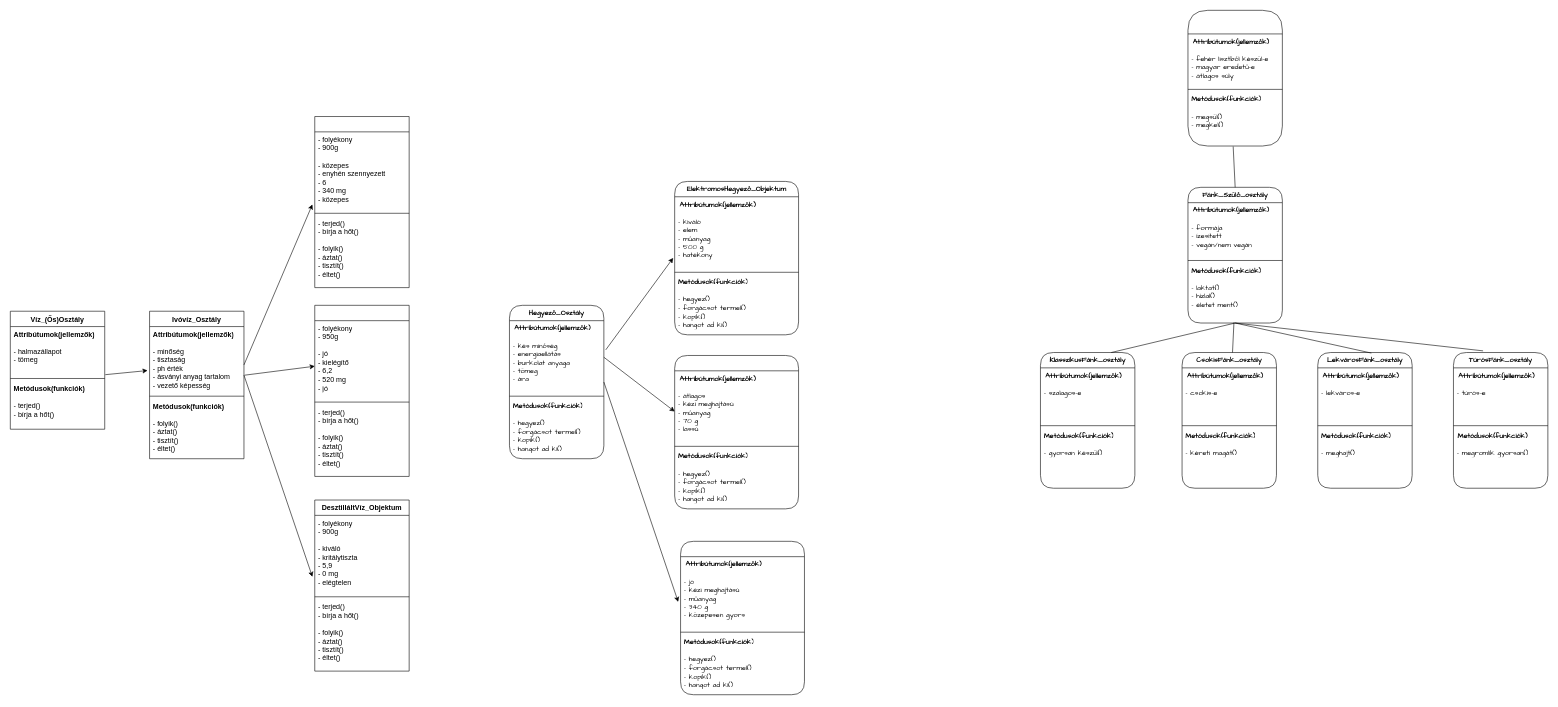
This 1558x707 diagram has some shape labels left out. Here are the shapes that lost their labels. From the top down, the box of each, then its label:
(1187, 10, 1282, 146): KeltTészta _Szülő_osztály
(314, 116, 409, 288): Csapvíz_Objektum
(314, 305, 409, 476): Ásványvíz_Objektum
(674, 355, 799, 509): KéziHegyező_Objektum
(680, 541, 804, 695): KéziTekerősHegyező_Objektum
